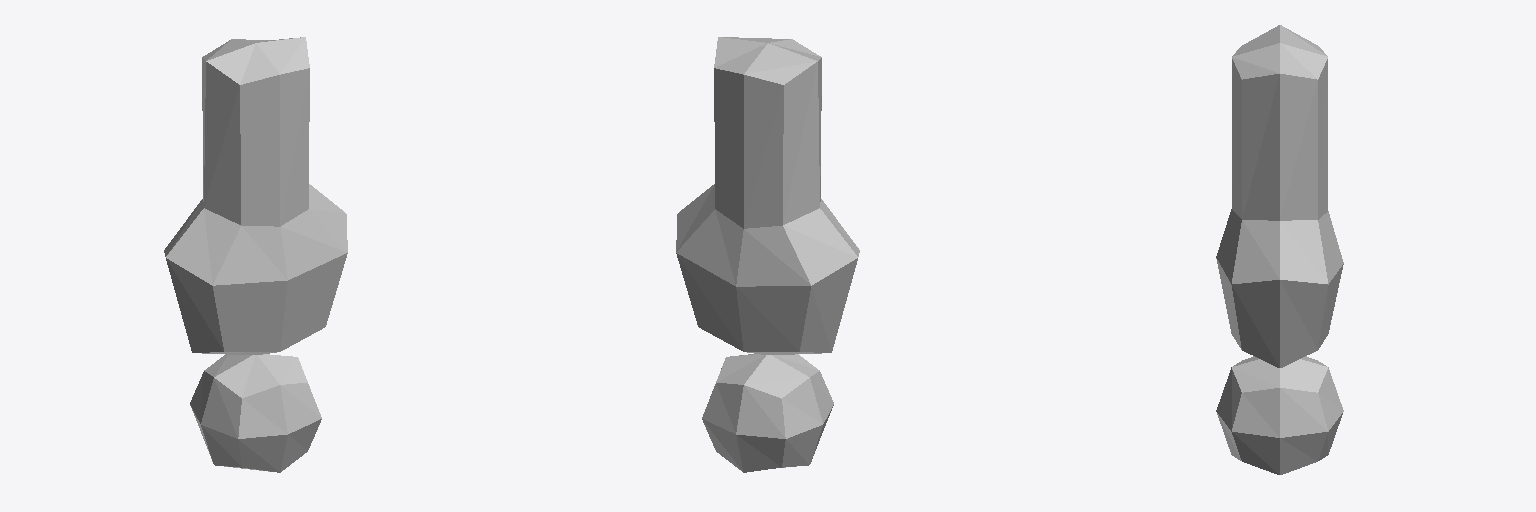
The model's file is character.obj.
3 renders of one model, left to right at view 1: azimuth 30°, elevation 25°; view 2: azimuth 150°, elevation 25°; view 3: azimuth 270°, elevation 25°, orthographic.
Visible parts, largest first — view 1: Cube.002; view 2: Cube.002; view 3: Cube.002.
Boxes of the visible parts, x1=… form: Cube.002: x1=164, y1=37, x2=347, y2=472; Cube.002: x1=676, y1=37, x2=859, y2=472; Cube.002: x1=1216, y1=25, x2=1343, y2=474.
Size of the model in its own units: 2 by 4.5 by 1.22.